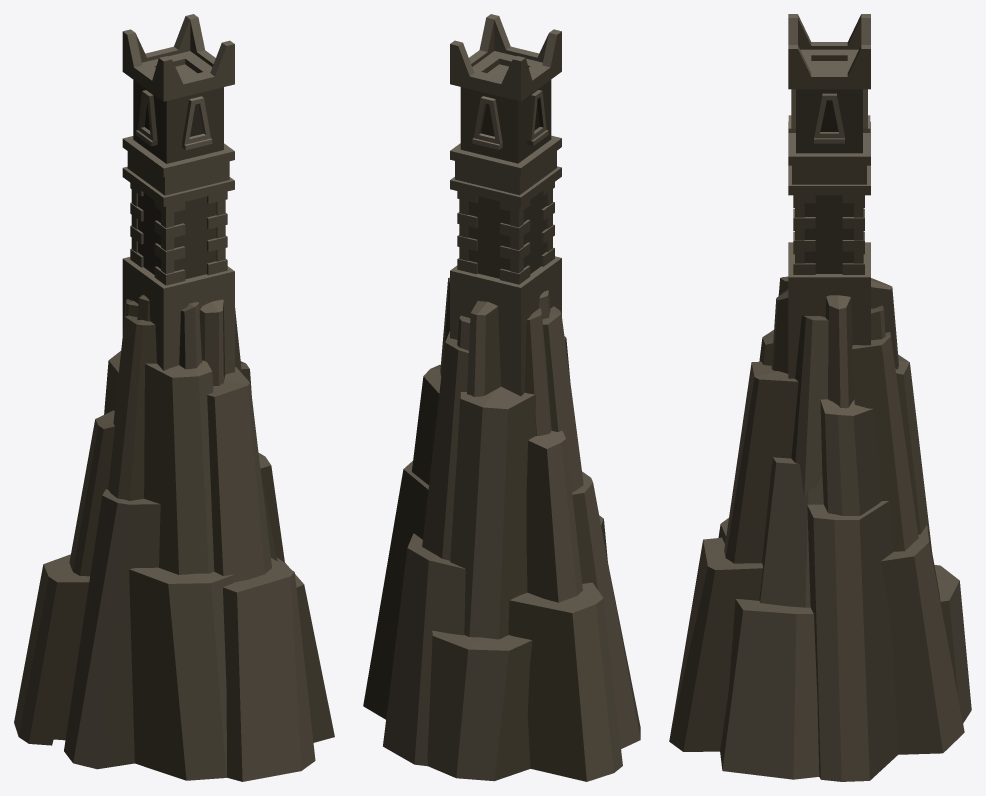
Rendered from SF_Bld_Undead_Castle_Tower_Tall_01.fbx.
The picture shows the model from 3 angles, left to right: view 1: azimuth 30°, elevation 25°; view 2: azimuth 150°, elevation 25°; view 3: azimuth 270°, elevation 25°; orthographic projection.
Visible parts, largest first — view 1: SF_Bld_Undead_Castle_Tower_Tall_01; view 2: SF_Bld_Undead_Castle_Tower_Tall_01; view 3: SF_Bld_Undead_Castle_Tower_Tall_01.
Boxes of the visible parts, <box> form: SF_Bld_Undead_Castle_Tower_Tall_01: <box>14,14,334,781</box>; SF_Bld_Undead_Castle_Tower_Tall_01: <box>363,14,640,781</box>; SF_Bld_Undead_Castle_Tower_Tall_01: <box>669,14,971,781</box>.
Bounding box in the file's own units: 15.83 × 39.96 × 15.9.
